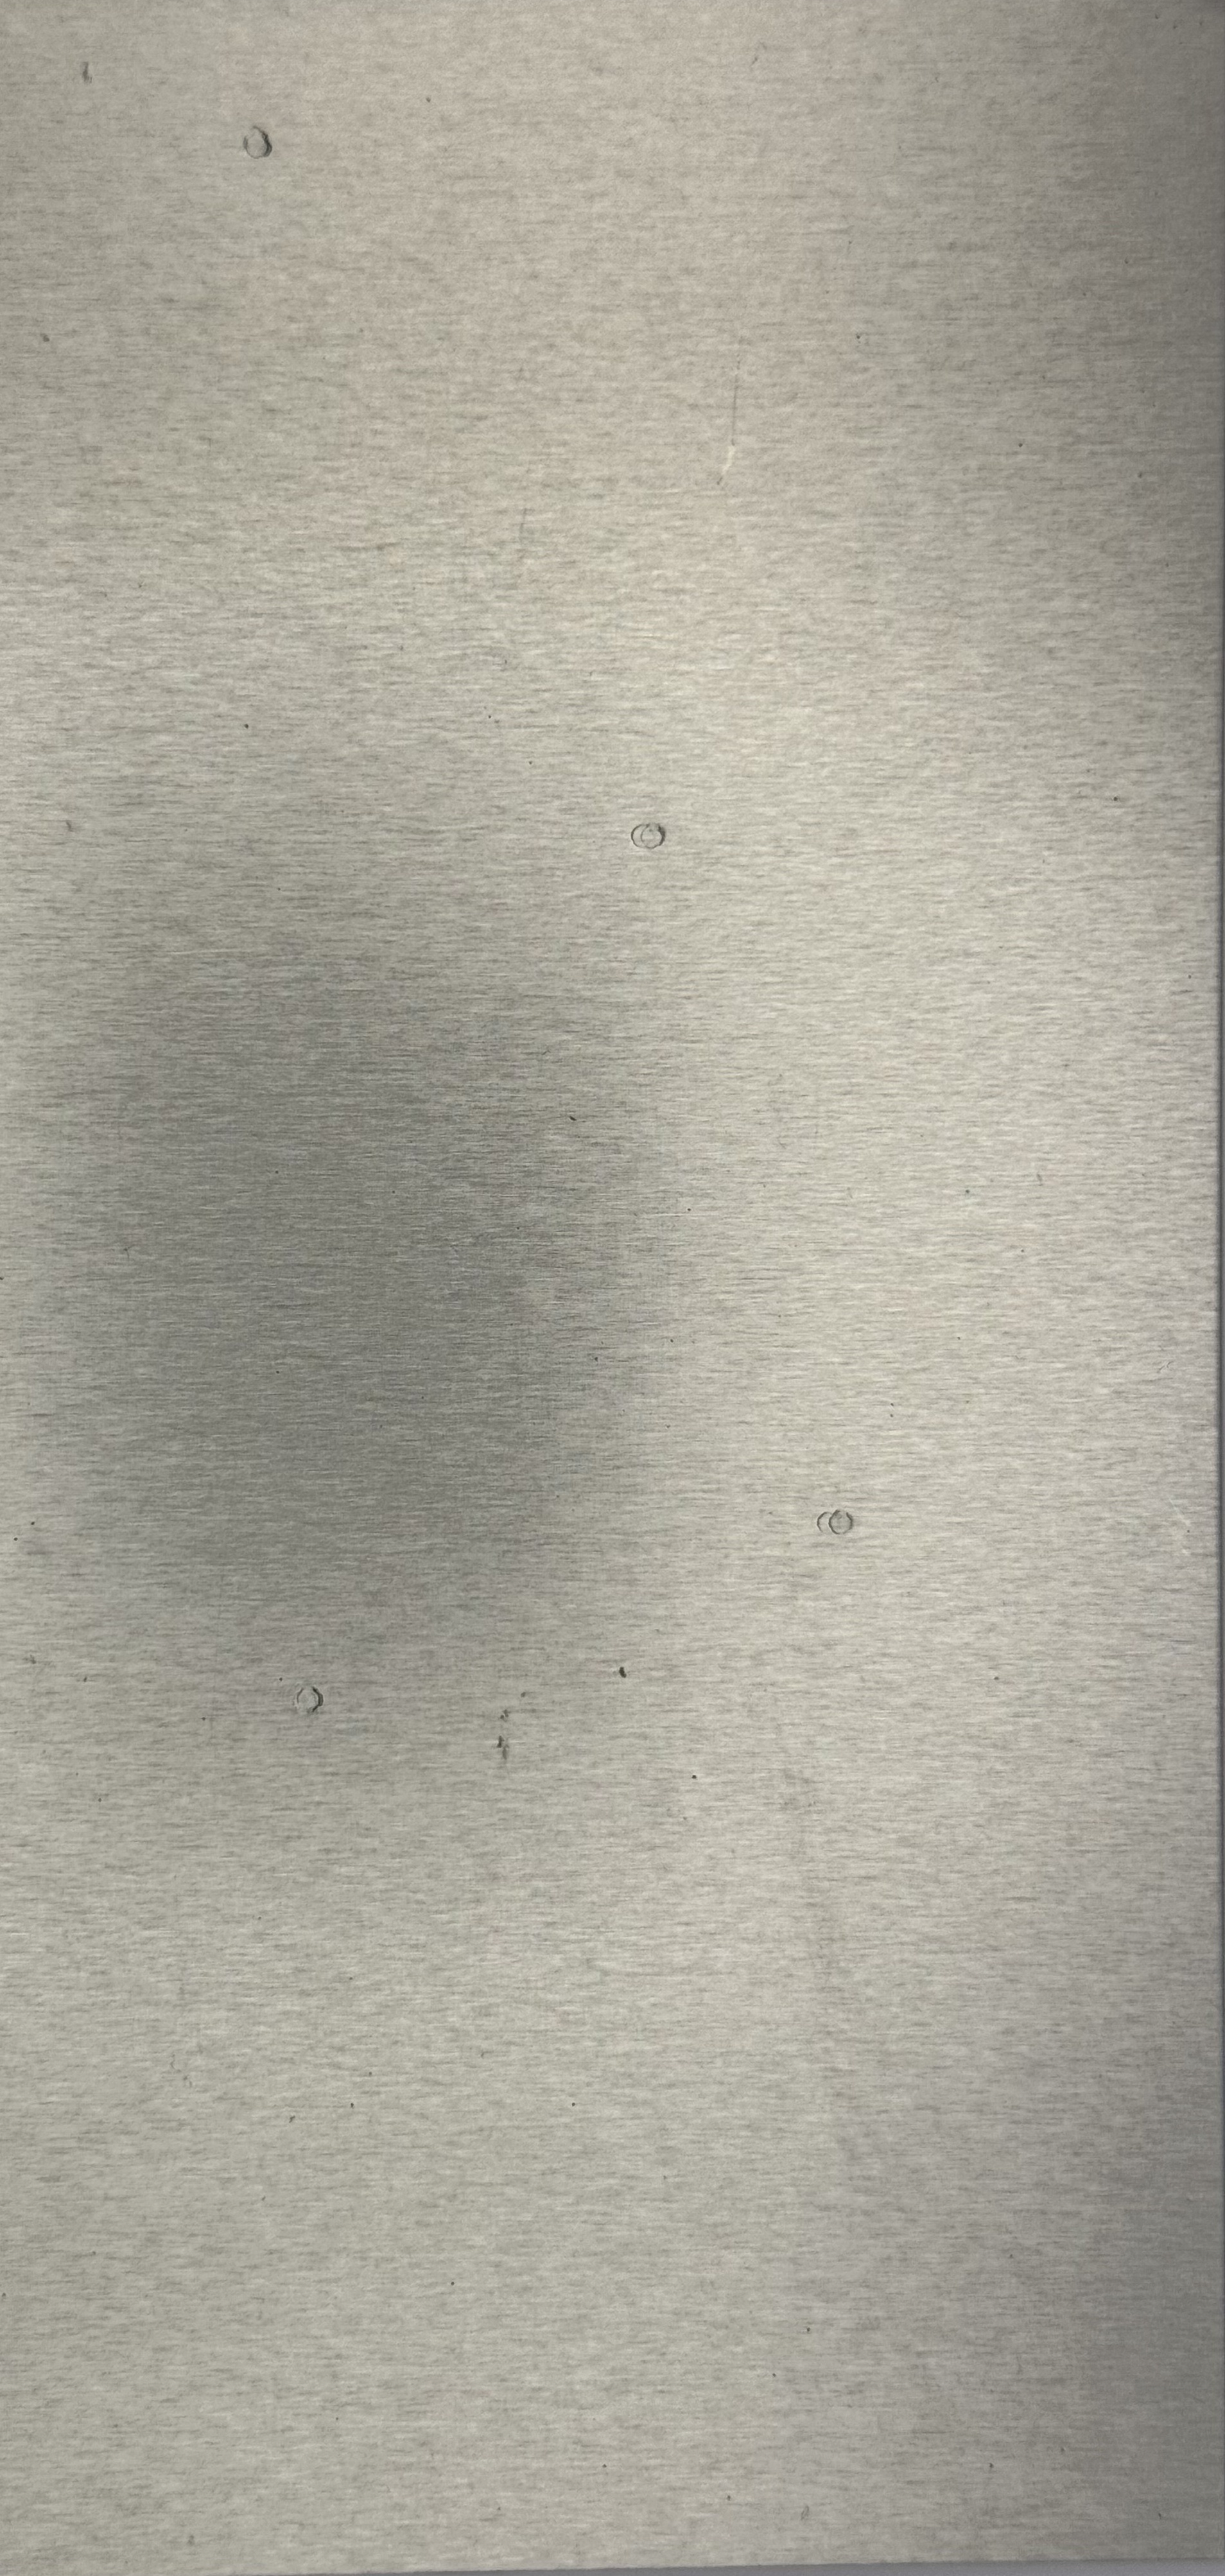Delle: (484, 1232, 590, 1345), (228, 117, 289, 172), (805, 1502, 872, 1548), (282, 1677, 338, 1728), (624, 816, 680, 862)
